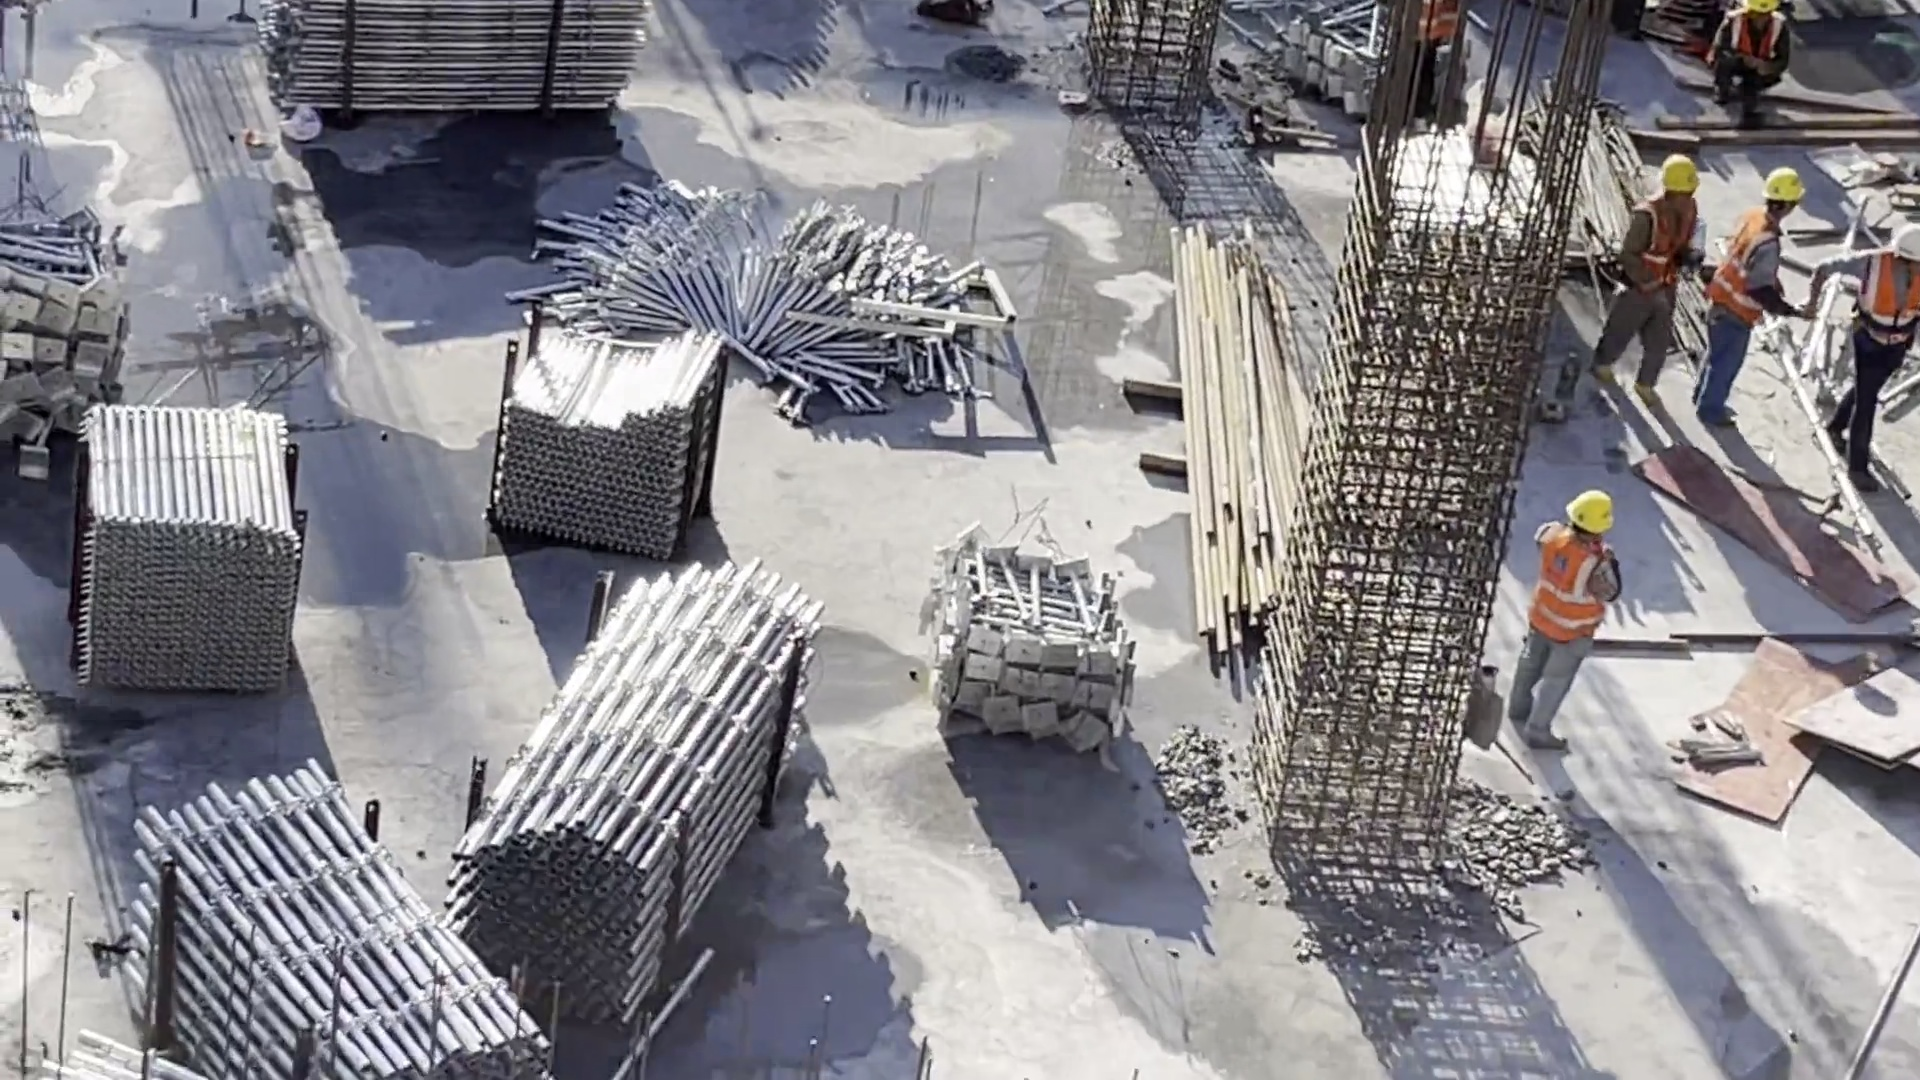helmet: (1660, 149, 1708, 197), (1760, 169, 1808, 209), (1565, 490, 1610, 532), (1878, 219, 1920, 260)
person: (1819, 198, 1920, 512), (1521, 474, 1617, 743), (1712, 158, 1797, 443), (1611, 139, 1695, 406), (1697, 1, 1789, 132)
scaffold: (472, 559, 794, 1011), (110, 779, 561, 1080), (542, 166, 975, 388), (82, 404, 299, 702), (480, 314, 732, 538), (914, 530, 1124, 746), (258, 3, 667, 111), (1, 221, 161, 459), (1268, 1, 1478, 104)
vest: (1726, 206, 1788, 328), (1532, 532, 1599, 643), (1629, 195, 1692, 293), (1873, 257, 1914, 368), (1715, 8, 1780, 71)
